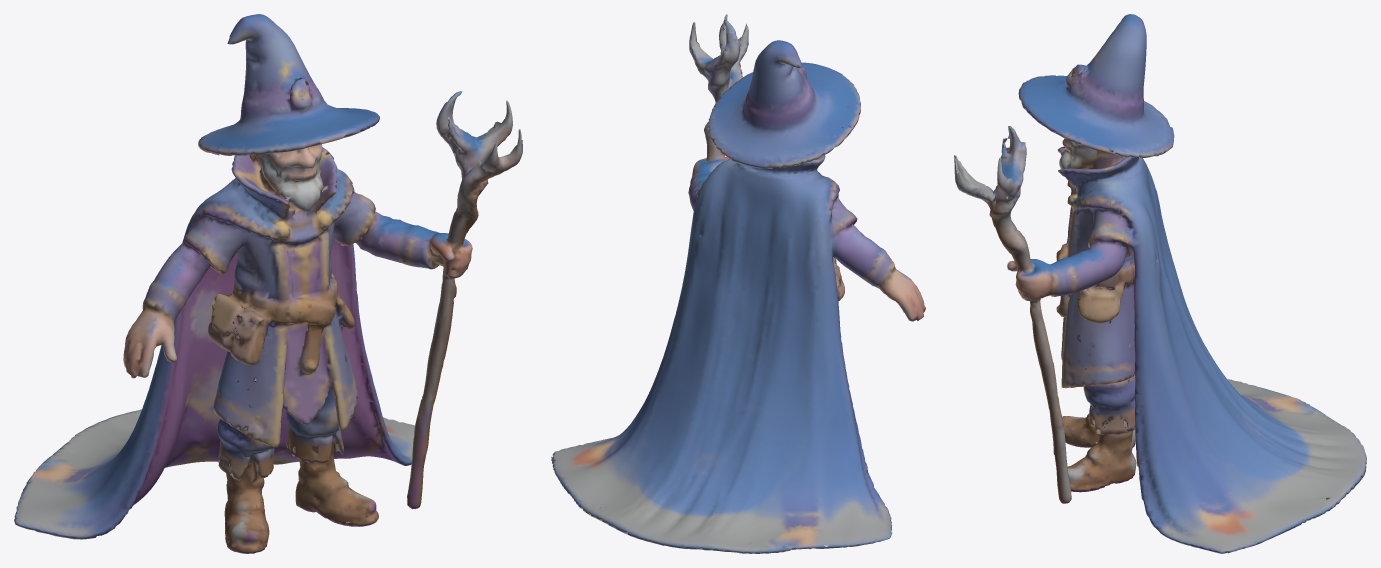
File: wizard.glb
The picture shows the model from 3 angles, left to right: view 1: azimuth 30°, elevation 25°; view 2: azimuth 150°, elevation 25°; view 3: azimuth 270°, elevation 25°; orthographic projection. The views are drawn at different scales.
Size of the model in its own units: 0.8311 by 0.9999 by 0.8408.
